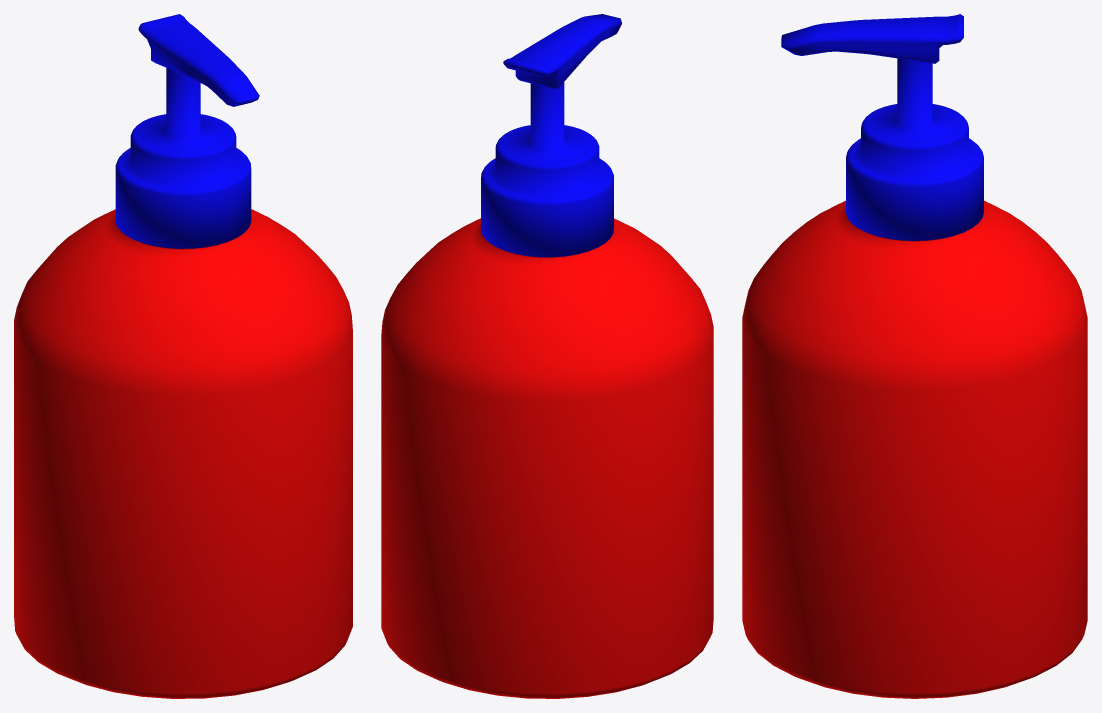
The model's file is SoapBottle.fbx.
The picture shows the model from 3 angles, left to right: view 1: azimuth 30°, elevation 25°; view 2: azimuth 150°, elevation 25°; view 3: azimuth 270°, elevation 25°; orthographic projection. The views are drawn at different scales.
Parts seen in each view (by area): view 1: SoapBottle; view 2: SoapBottle; view 3: SoapBottle.
Boxes of the visible parts, x1,y1,x2,y2 form: SoapBottle: [14, 14, 352, 698]; SoapBottle: [381, 14, 713, 698]; SoapBottle: [742, 14, 1087, 698].
Size of the model in its own units: 40 by 77.65 by 40.
